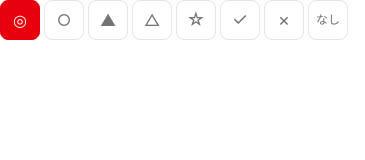
Test case: 「なし」を選ぶと枠が濃くなる（選んだ状態が枠で分かる）
Click the text "なし".
click(328, 20)  # box [308,0,348,40]
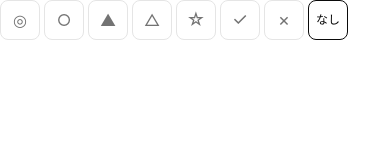
Expected: the radio button labelled "なし" is checked, [308,0,348,40]
